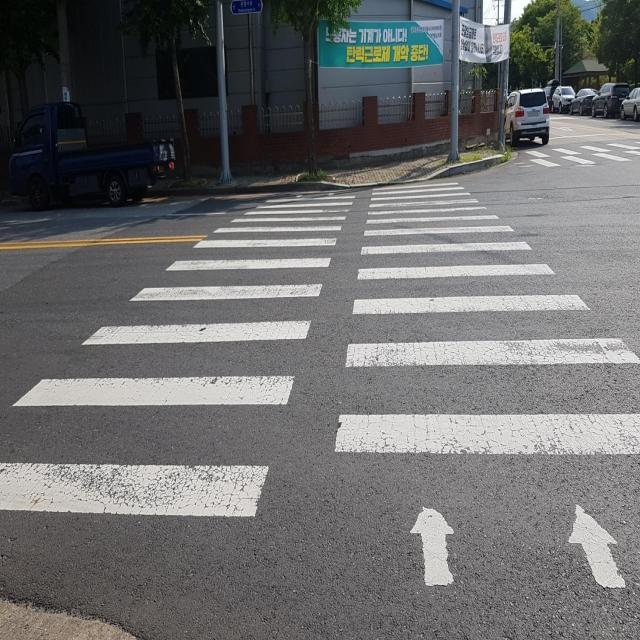횡단보도: (0, 172, 640, 598), (525, 145, 640, 165)
